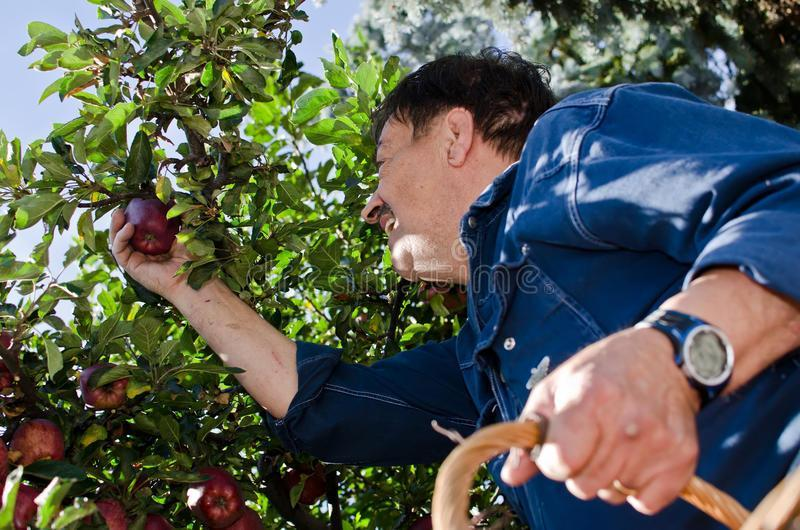apple: (183, 464, 242, 523), (122, 193, 173, 256), (11, 419, 64, 469)
